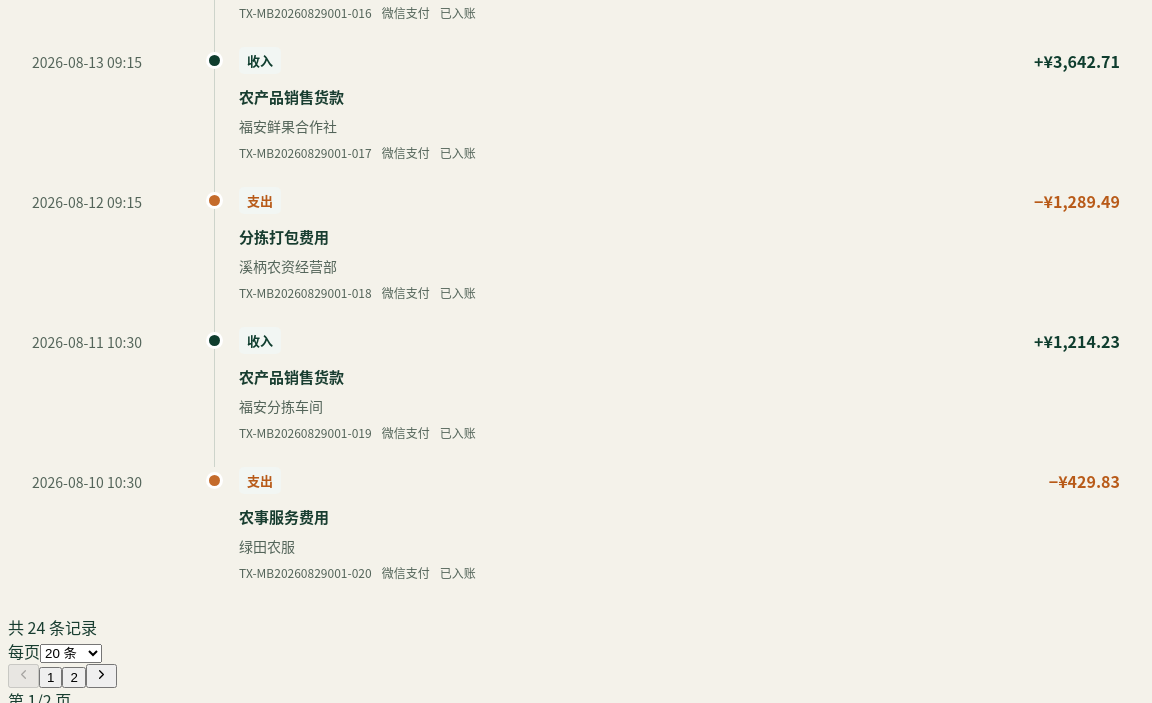
Test: 会员收支列表交互 › 时间范围包含起止当天，可与其他条件组合且重置清空
(page scrolled)
Click the button named "下一页" at (101, 676), box 86,664 -> 117,688
(page scrolled)
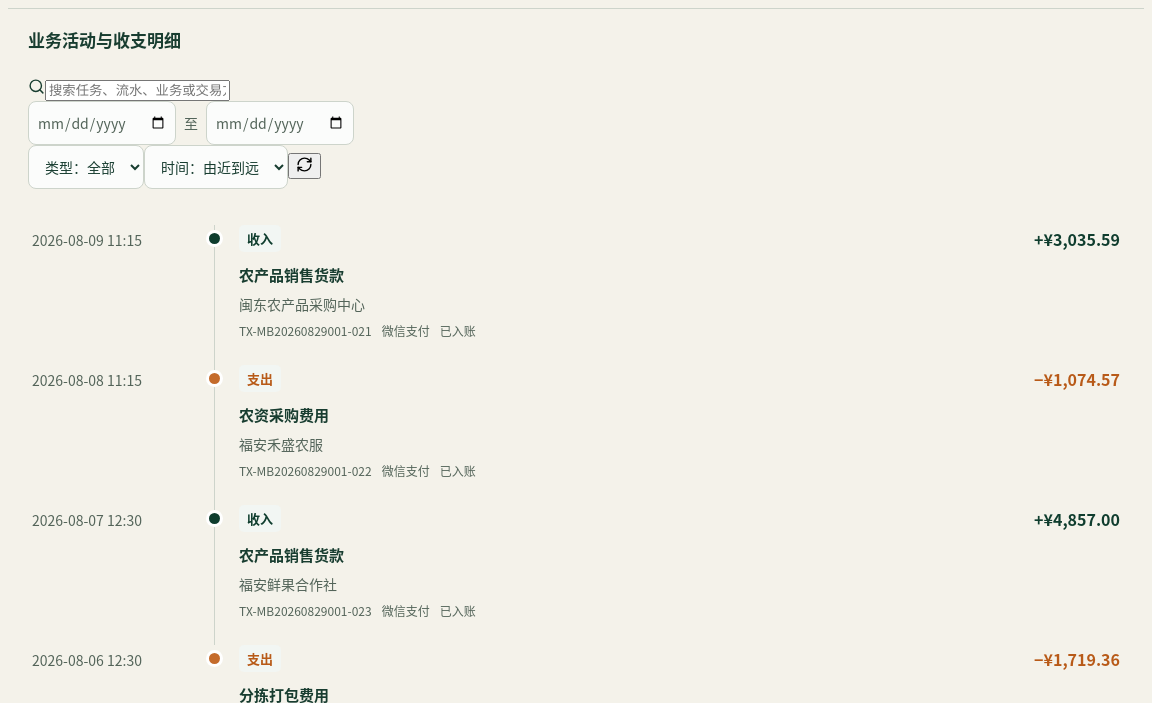
Type "2026-08-25" into the date field named "收支开始日期" at (102, 123), box 28,101 -> 176,145
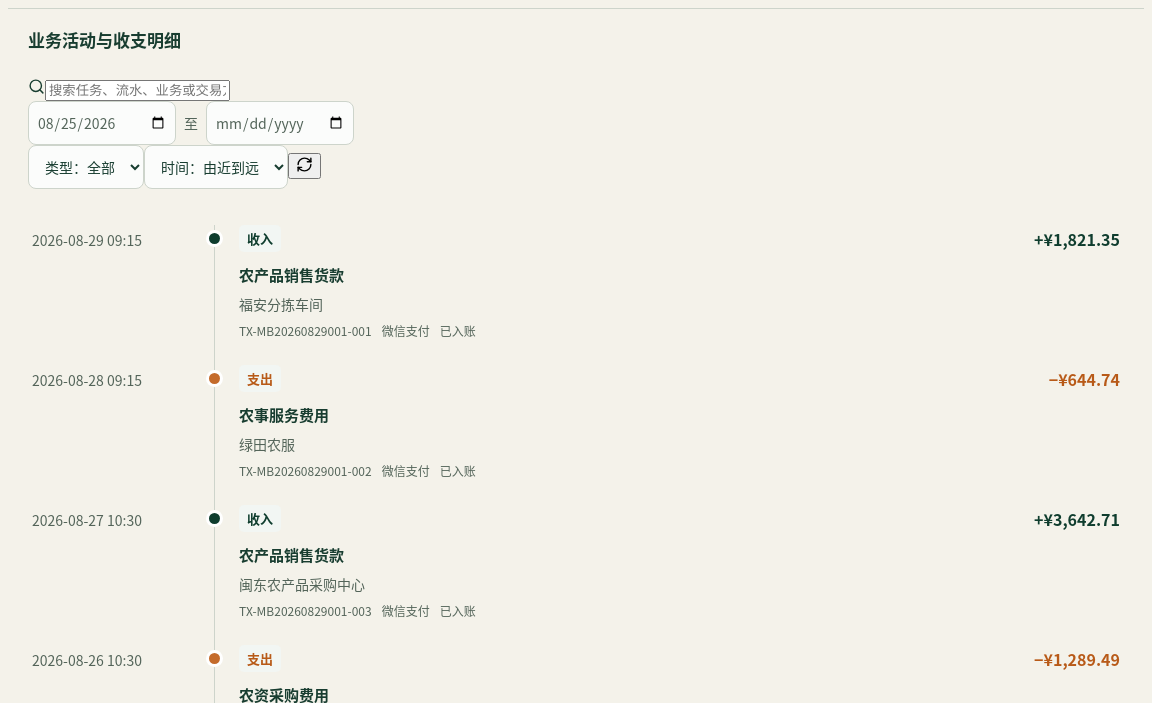
Type "2026-08-29" into the date field named "收支结束日期" at (280, 123), box 206,101 -> 354,145
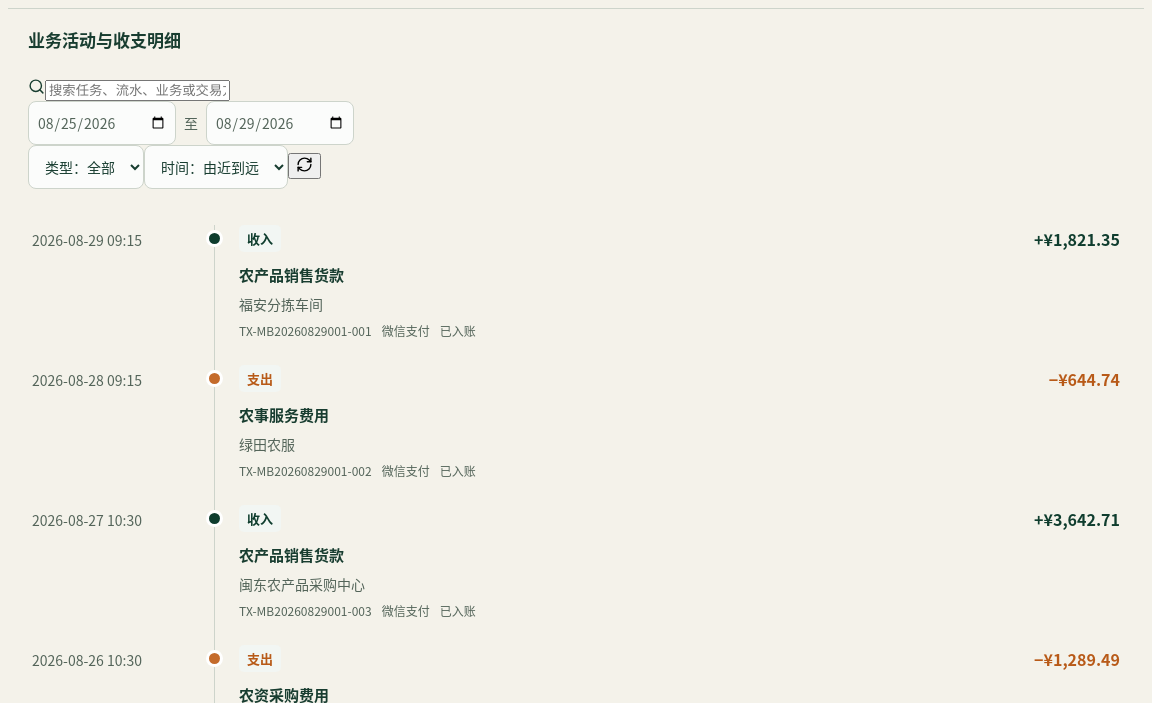
Check: the number of list items is 5
Select "收入" in the dropdown named "记录类型" at (86, 167), box 28,145 -> 144,189
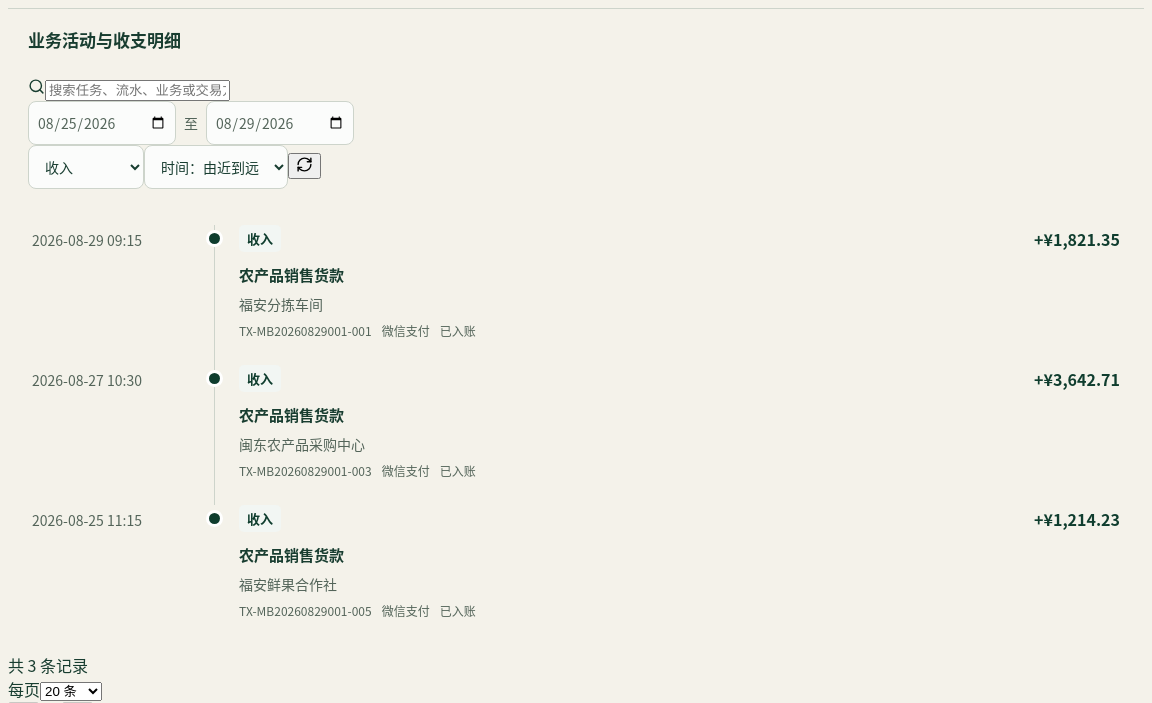
Check: the list item that starts with "农产品销售货款" shows "2026-08-29", box 32,230 -> 142,250
Check: the number of list items is 3, box 32,225 -> 1120,365; 32,365 -> 1120,505; 32,505 -> 1120,645
Click the button named "重置收支筛选" at (304, 166), box 288,153 -> 321,179
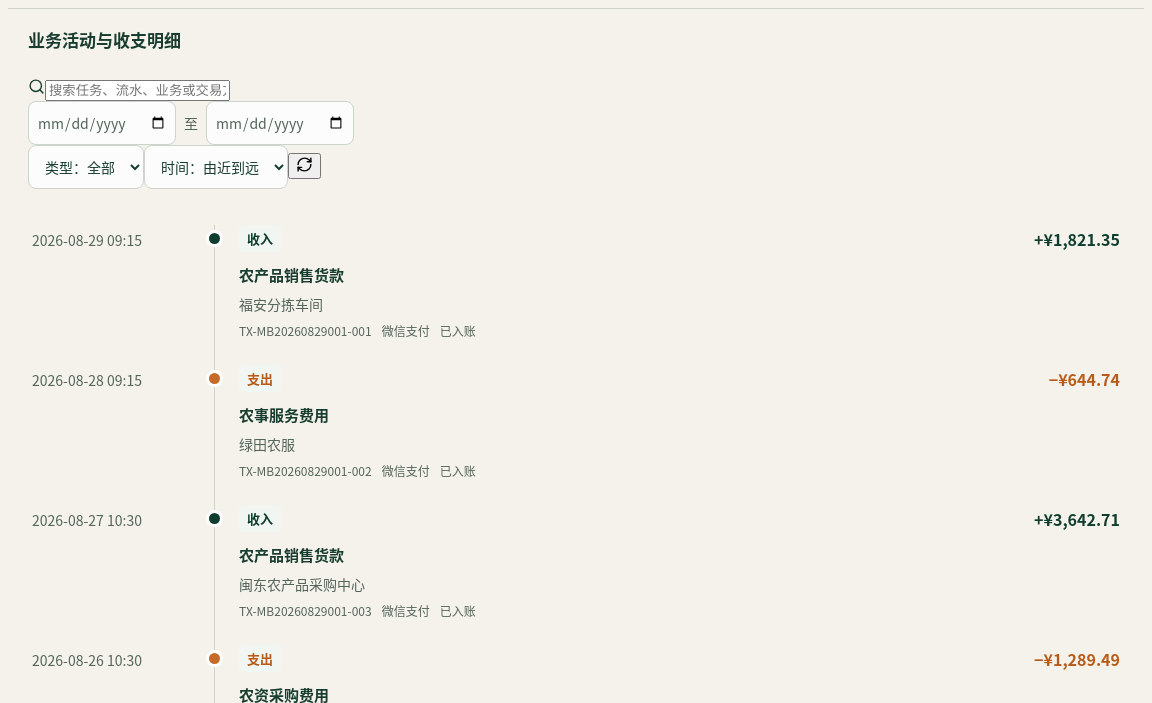
Check: the date field named "收支开始日期" is empty, box 28,101 -> 176,145
Check: the date field named "收支结束日期" is empty, box 206,101 -> 354,145
Check: the number of list items is 20
